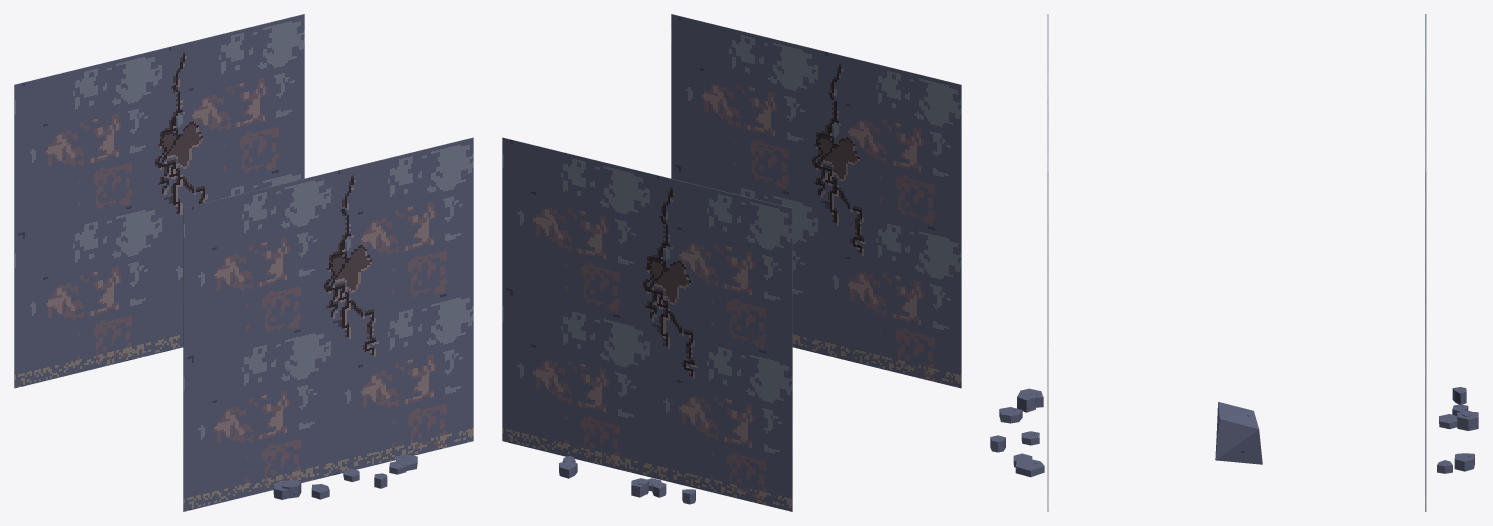
The model's file is cracked_wall_b.glb.
The picture shows the model from 3 angles, left to right: view 1: azimuth 30°, elevation 25°; view 2: azimuth 150°, elevation 25°; view 3: azimuth 270°, elevation 25°; orthographic projection. The views are drawn at different scales.
Parts seen in each view (by area): view 1: panel_front, panel_back, debris_front; view 2: panel_back, panel_front, debris_back; view 3: chunk, debris_front, debris_back, panel_back, panel_front.
Part boxes in pixels (x1,y1,x2,y2): panel_front: [183, 137, 473, 511]; panel_back: [14, 14, 304, 388]; debris_front: [273, 454, 417, 499]; panel_back: [502, 137, 792, 511]; panel_front: [671, 14, 961, 388]; debris_back: [559, 455, 695, 504]; chunk: [1215, 402, 1262, 464]; debris_front: [990, 388, 1044, 477]; debris_back: [1437, 387, 1478, 473]; panel_back: [1425, 14, 1426, 511]; panel_front: [1047, 14, 1048, 511].
Bounding box in the file's own units: 2 × 2.14 × 2.61.
1 material, 1 textured.
